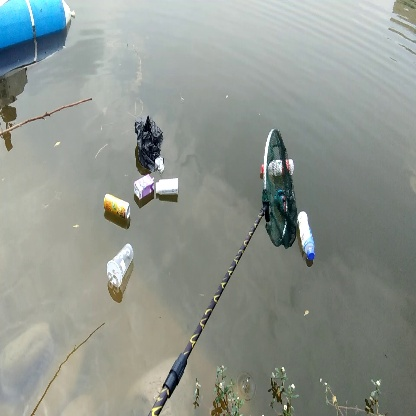bottle: (103, 242, 138, 290), (293, 209, 319, 261), (101, 191, 130, 221)
plastic-bag: (133, 117, 168, 170)
